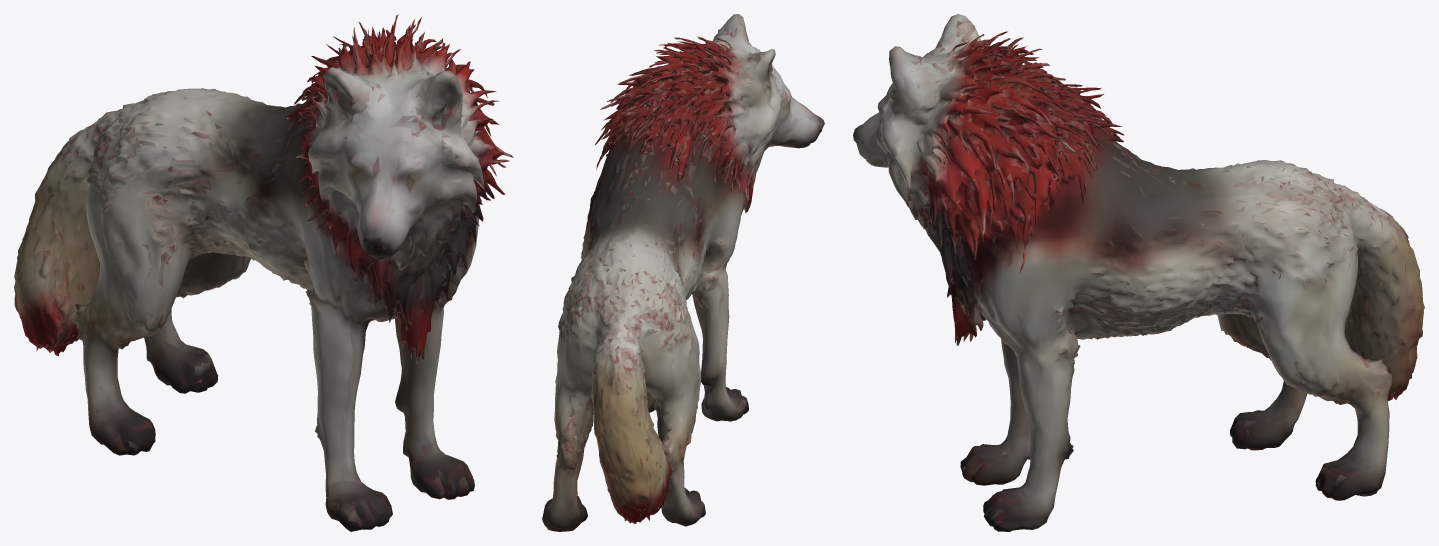
Rendered from Amber (small)_final.glb.
3 views of the same model, side by side, from view 1: azimuth 30°, elevation 25°; view 2: azimuth 150°, elevation 25°; view 3: azimuth 270°, elevation 25° (orthographic). The views are drawn at different scales.
Parts seen in each view (by area): view 1: Mesh1.0; view 2: Mesh1.0; view 3: Mesh1.0.
Part boxes in pixels (box(x1,y1,x2,y2)): Mesh1.0: box(14, 14, 513, 531); Mesh1.0: box(542, 14, 824, 531); Mesh1.0: box(853, 14, 1424, 531).
Size of the model in its own units: 1.01 by 1.7 by 1.92.
Materials: 1 (1 with a texture image).
